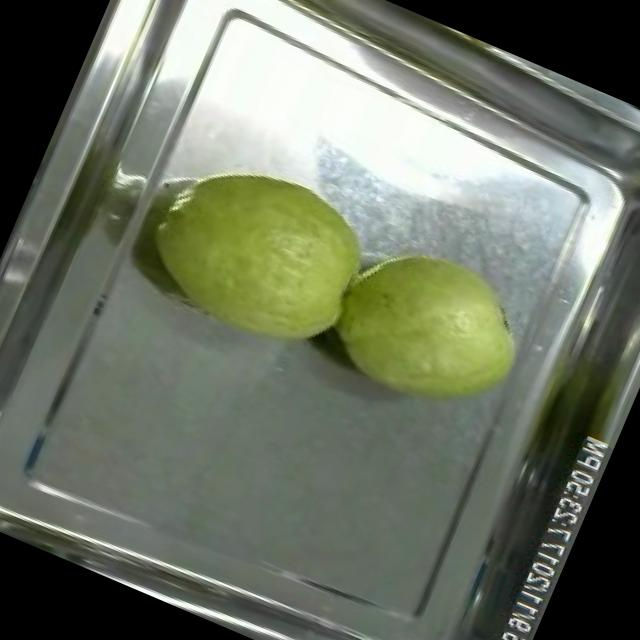Fruit: (118, 128, 394, 378), (306, 215, 550, 441)
